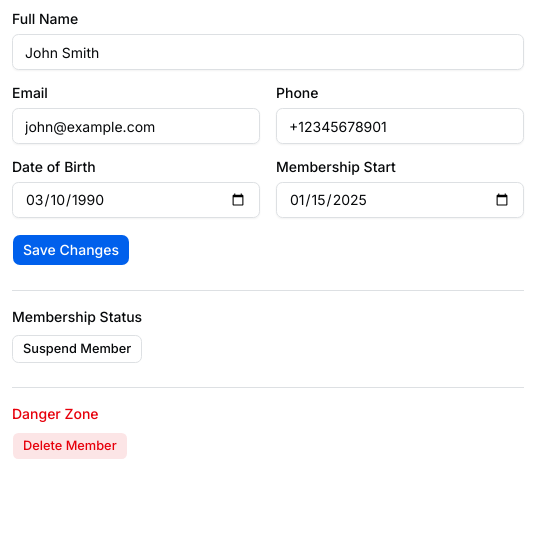
it: EditMemberForm › editMemberForm_fullNameTooShort_showsOnlyFullNameErrorAndDoesNotCallUpdate
Replace the text in the field labelled "Full Name" with "John": (268,52) top-left (12, 34), bottom-right (524, 70)
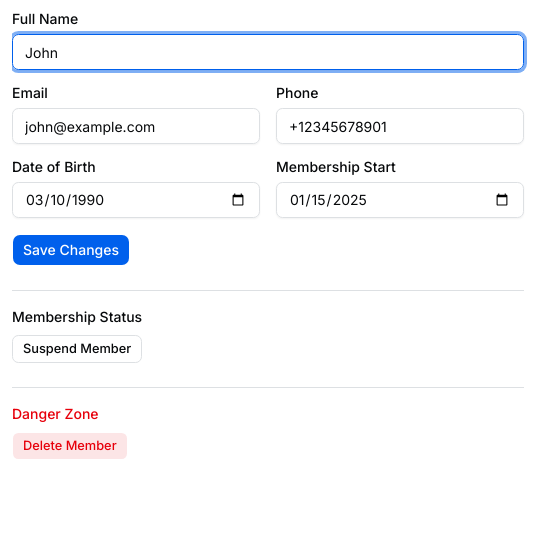
Click the button "Save Changes": (71,250) top-left (12, 234), bottom-right (130, 266)
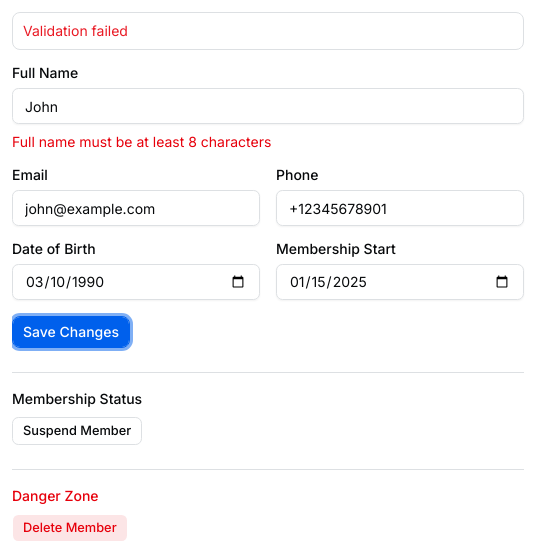
Now the text "Validation failed" is shown, box top-left (23, 22), bottom-right (128, 39)
Now the text "Full name must be at least 8 characters" is shown, box top-left (12, 133), bottom-right (271, 150)
